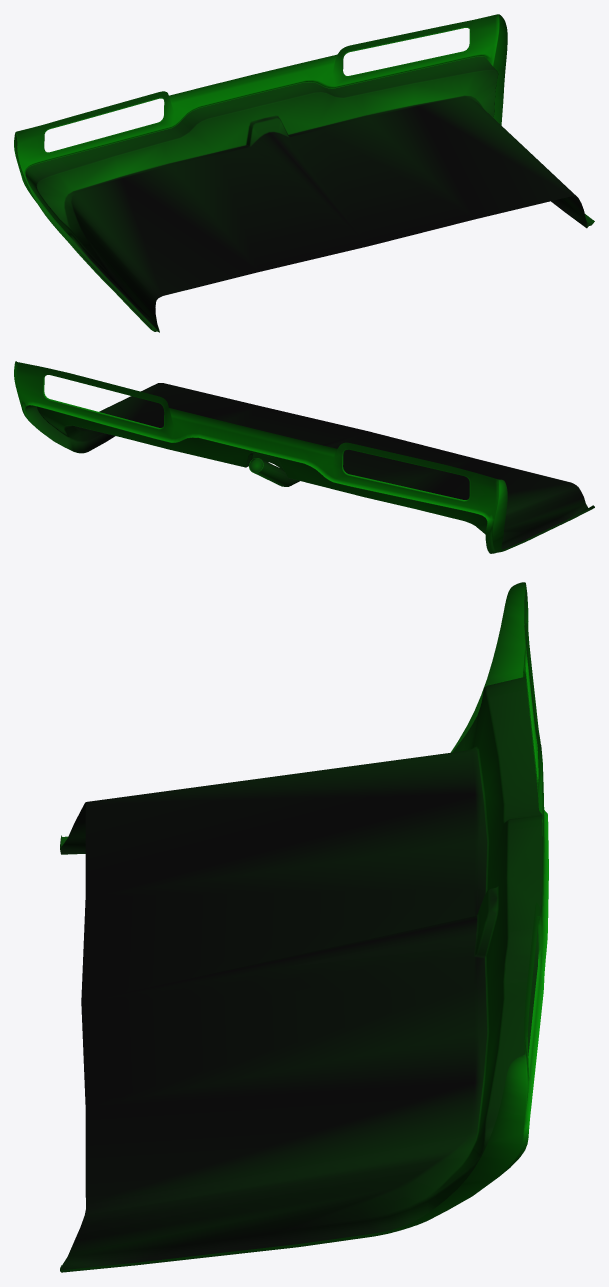
The model's file is Pontiac_GTOTheJudgeClassic_1969_Body4a_lodB.fbx.
3 views of the same model, one above another, from view 1: azimuth 30°, elevation 25°; view 2: azimuth 150°, elevation 25°; view 3: azimuth 270°, elevation 25° (orthographic). The views are drawn at different scales.
Parts seen in each view (by area): view 1: Body4a_Coloured_Geo_lodB; view 2: Body4a_Coloured_Geo_lodB; view 3: Body4a_Coloured_Geo_lodB.
Part boxes in pixels (x1,y1,x2,y2): Body4a_Coloured_Geo_lodB: (14,14,594,332); Body4a_Coloured_Geo_lodB: (14,361,594,553); Body4a_Coloured_Geo_lodB: (60,582,548,1272).
Bounding box in the file's own units: 1.76 × 0.4304 × 0.7623.
